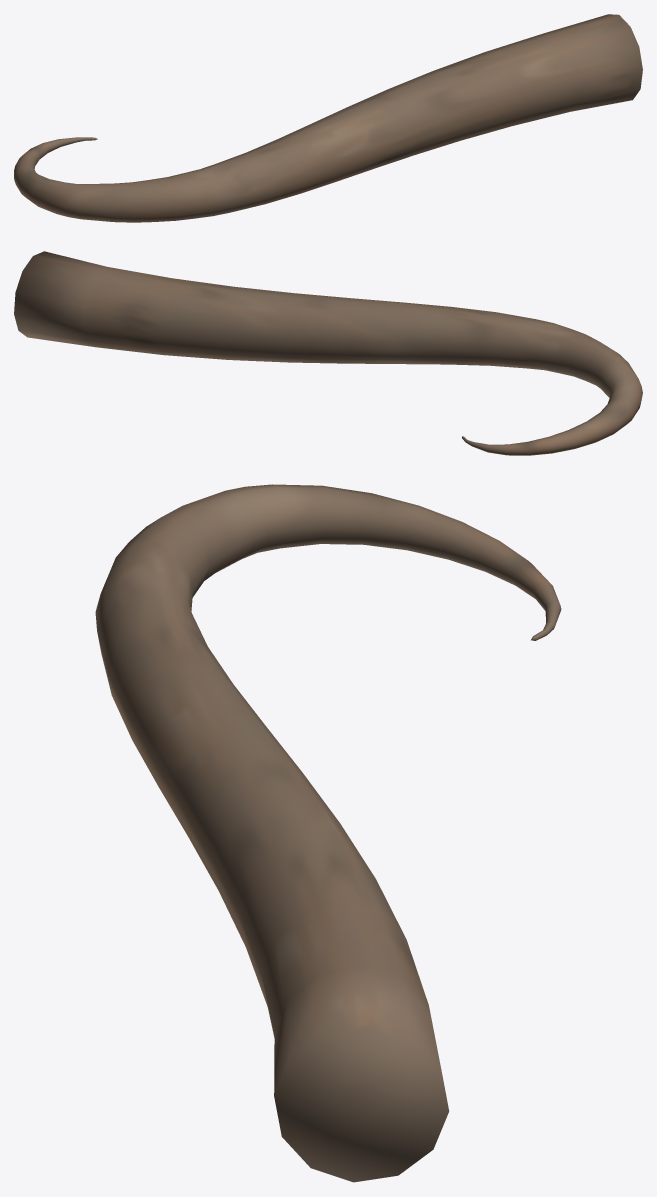
Rendered from RaboDeRato.fbx.
3 views of the same model, one above another, from view 1: azimuth 30°, elevation 25°; view 2: azimuth 150°, elevation 25°; view 3: azimuth 270°, elevation 25° (orthographic). The views are drawn at different scales.
Parts seen in each view (by area): view 1: Rabo de Rato; view 2: Rabo de Rato; view 3: Rabo de Rato.
Part boxes in pixels (bbox=[...]): Rabo de Rato: bbox=[14, 14, 642, 222]; Rabo de Rato: bbox=[14, 251, 642, 455]; Rabo de Rato: bbox=[95, 484, 561, 1182].
Size of the model in its own units: 216 by 28.69 by 74.08.
